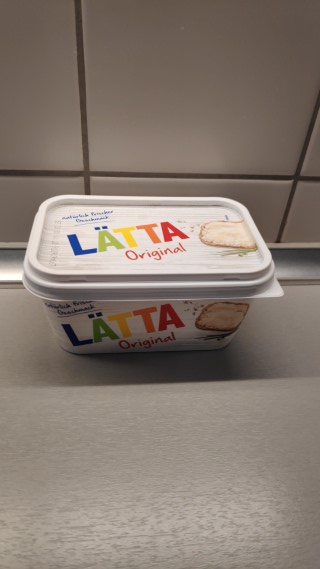laetta: (20, 193, 285, 356)
